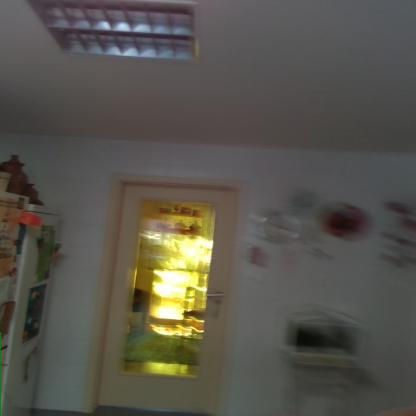door: (115, 181, 224, 415)
lever: (204, 291, 227, 301)
